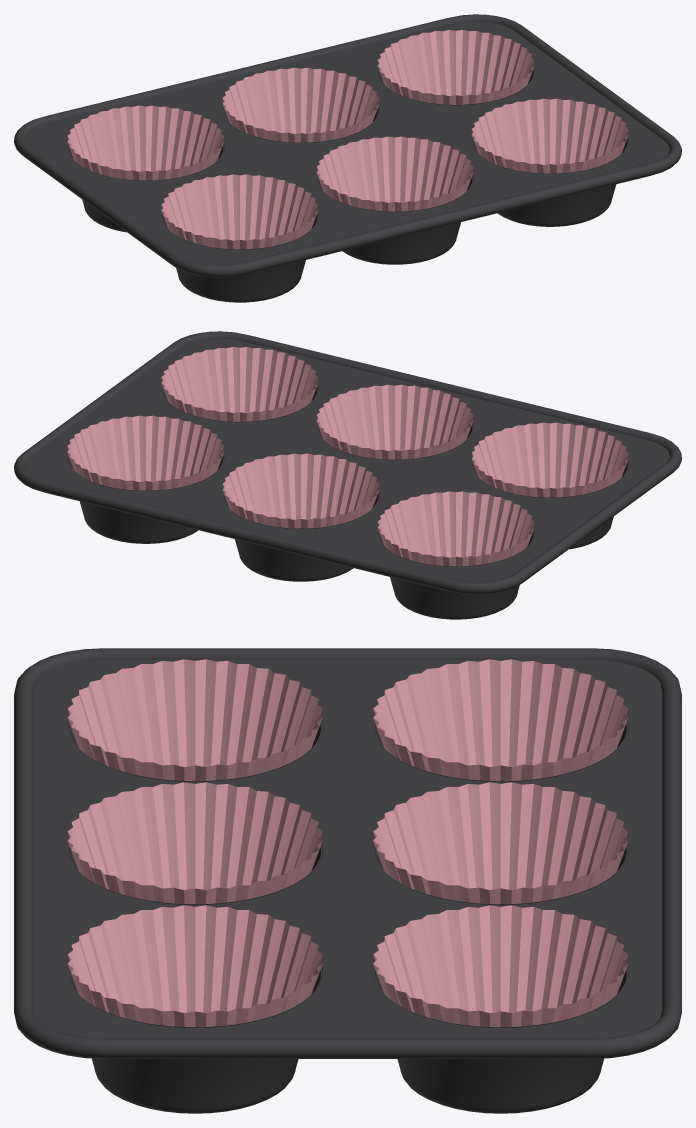
Rendered from mold_cupcake.glb.
3 renders of one model, top to bottom at view 1: azimuth 30°, elevation 25°; view 2: azimuth 150°, elevation 25°; view 3: azimuth 270°, elevation 25°, orthographic. The views are drawn at different scales.
Visible parts, largest first — view 1: 머핀틀, 머핀틀_테두리, 컵받침.002, 컵받침.004, 컵받침.005, 컵받침.001, 컵받침.003, 컵받침, 머핀컵, 머핀컵.001, 머핀컵.002, 머핀컵.003; view 2: 머핀틀, 머핀틀_테두리, 컵받침.005, 컵받침.001, 컵받침.002, 컵받침, 컵받침.004, 컵받침.003, 머핀컵.003, 머핀컵.004, 머핀컵.005, 머핀컵; view 3: 머핀틀, 머핀틀_테두리, 컵받침.002, 컵받침.005, 컵받침.001, 컵받침.004, 컵받침, 컵받침.003, 머핀컵.002, 머핀컵.005.
Part boxes in pixels (box(x1,y1,x2,y2)): 머핀틀: box(26, 21, 669, 265); 머핀틀_테두리: box(14, 14, 681, 277); 컵받침.002: box(471, 98, 628, 173); 컵받침.004: box(222, 67, 379, 142); 컵받침.005: box(377, 30, 534, 104); 컵받침.001: box(316, 136, 473, 211); 컵받침.003: box(67, 105, 224, 180); 컵받침: box(161, 174, 318, 249); 머핀컵: box(161, 212, 318, 302); 머핀컵.001: box(316, 174, 473, 264); 머핀컵.002: box(471, 136, 628, 226); 머핀컵.003: box(67, 143, 224, 232); 머핀틀: box(26, 338, 669, 582); 머핀틀_테두리: box(14, 331, 681, 594); 컵받침.005: box(67, 415, 224, 490); 컵받침.001: box(316, 384, 473, 459); 컵받침.002: box(161, 347, 318, 421); 컵받침: box(471, 422, 628, 497); 컵받침.004: box(222, 453, 379, 528); 컵받침.003: box(377, 491, 534, 566); 머핀컵.003: box(377, 529, 534, 619); 머핀컵.004: box(222, 491, 379, 581); 머핀컵.005: box(67, 453, 224, 543); 머핀컵: box(471, 460, 628, 549); 머핀틀: box(33, 659, 662, 1038); 머핀틀_테두리: box(14, 648, 681, 1058); 컵받침.002: box(67, 905, 322, 1027); 컵받침.005: box(373, 905, 628, 1027); 컵받침.001: box(67, 782, 322, 904); 컵받침.004: box(373, 782, 628, 904); 컵받침: box(67, 659, 322, 781); 컵받침.003: box(373, 659, 628, 781); 머핀컵.002: box(67, 966, 322, 1113); 머핀컵.005: box(373, 966, 628, 1113).
Size of the model in its own units: 0.2596 by 0.035 by 0.1836.
